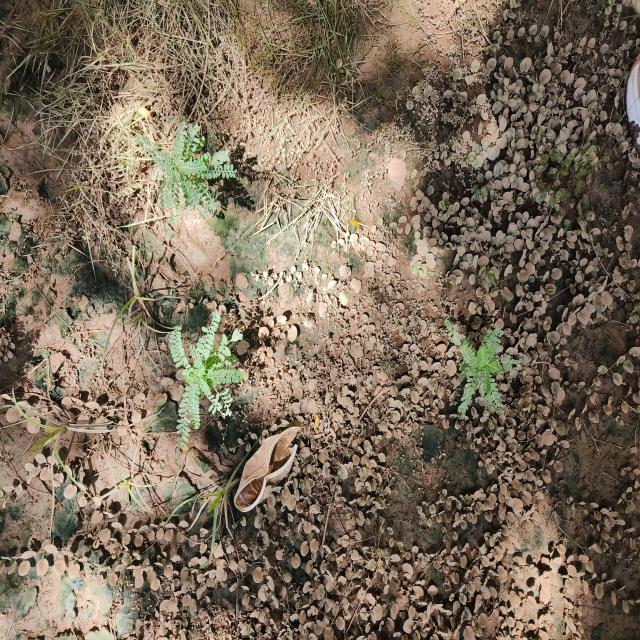weed: (163, 299, 248, 437), (438, 301, 520, 414), (161, 124, 246, 203)
